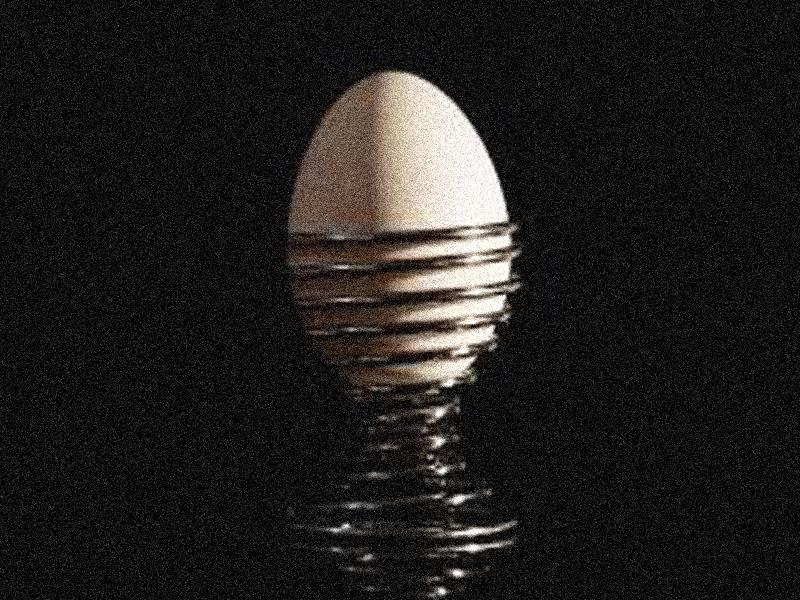Eggs: (288, 69, 512, 387)
